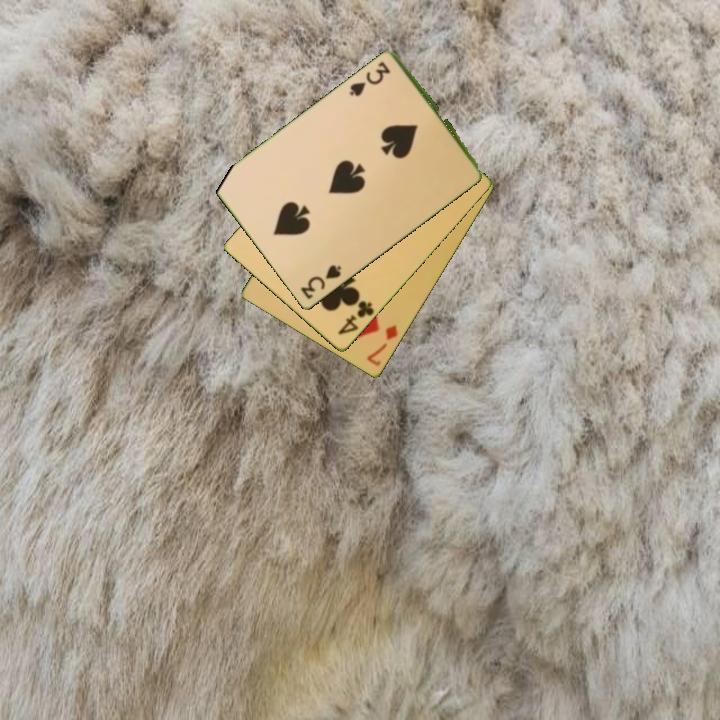3s: (346, 58, 393, 100), (297, 262, 344, 303)
4c: (334, 297, 377, 338)
7d: (363, 322, 401, 369)
